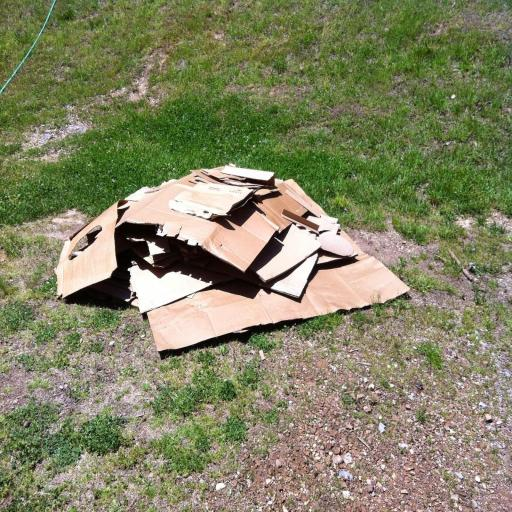cardboard: (58, 162, 409, 355)
